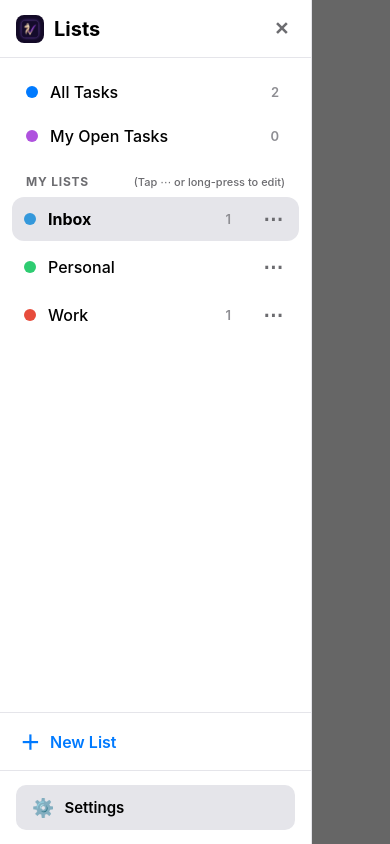
ProjectDrawer › opens project options action sheet when list options button is pressed
The width and height of the screenshot is (390, 844).
Click the element with test id "drawer-project-options-1": (273, 219) [263,207,283,231]
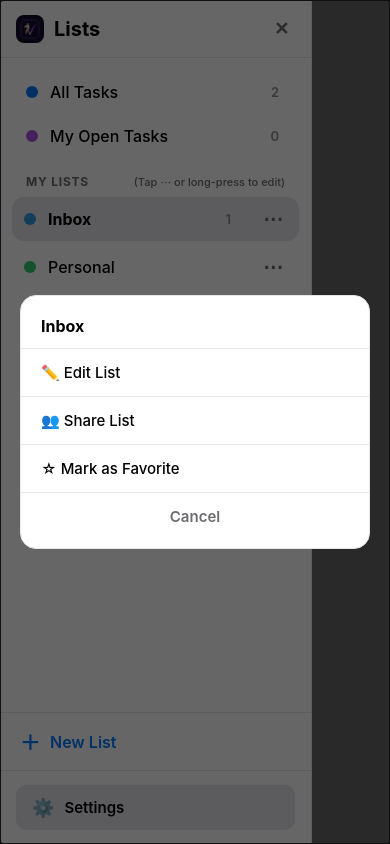
Expected: the element with test id "drawer-option-edit" is shown, [21,349,369,397]
Expected: the element with test id "drawer-option-share" is shown, [21,397,369,445]
Expected: the element with test id "drawer-option-favorite" is shown, [21,445,369,493]
